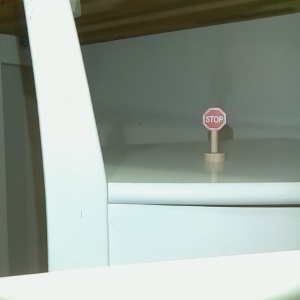stop sign: (201, 106, 227, 163)
